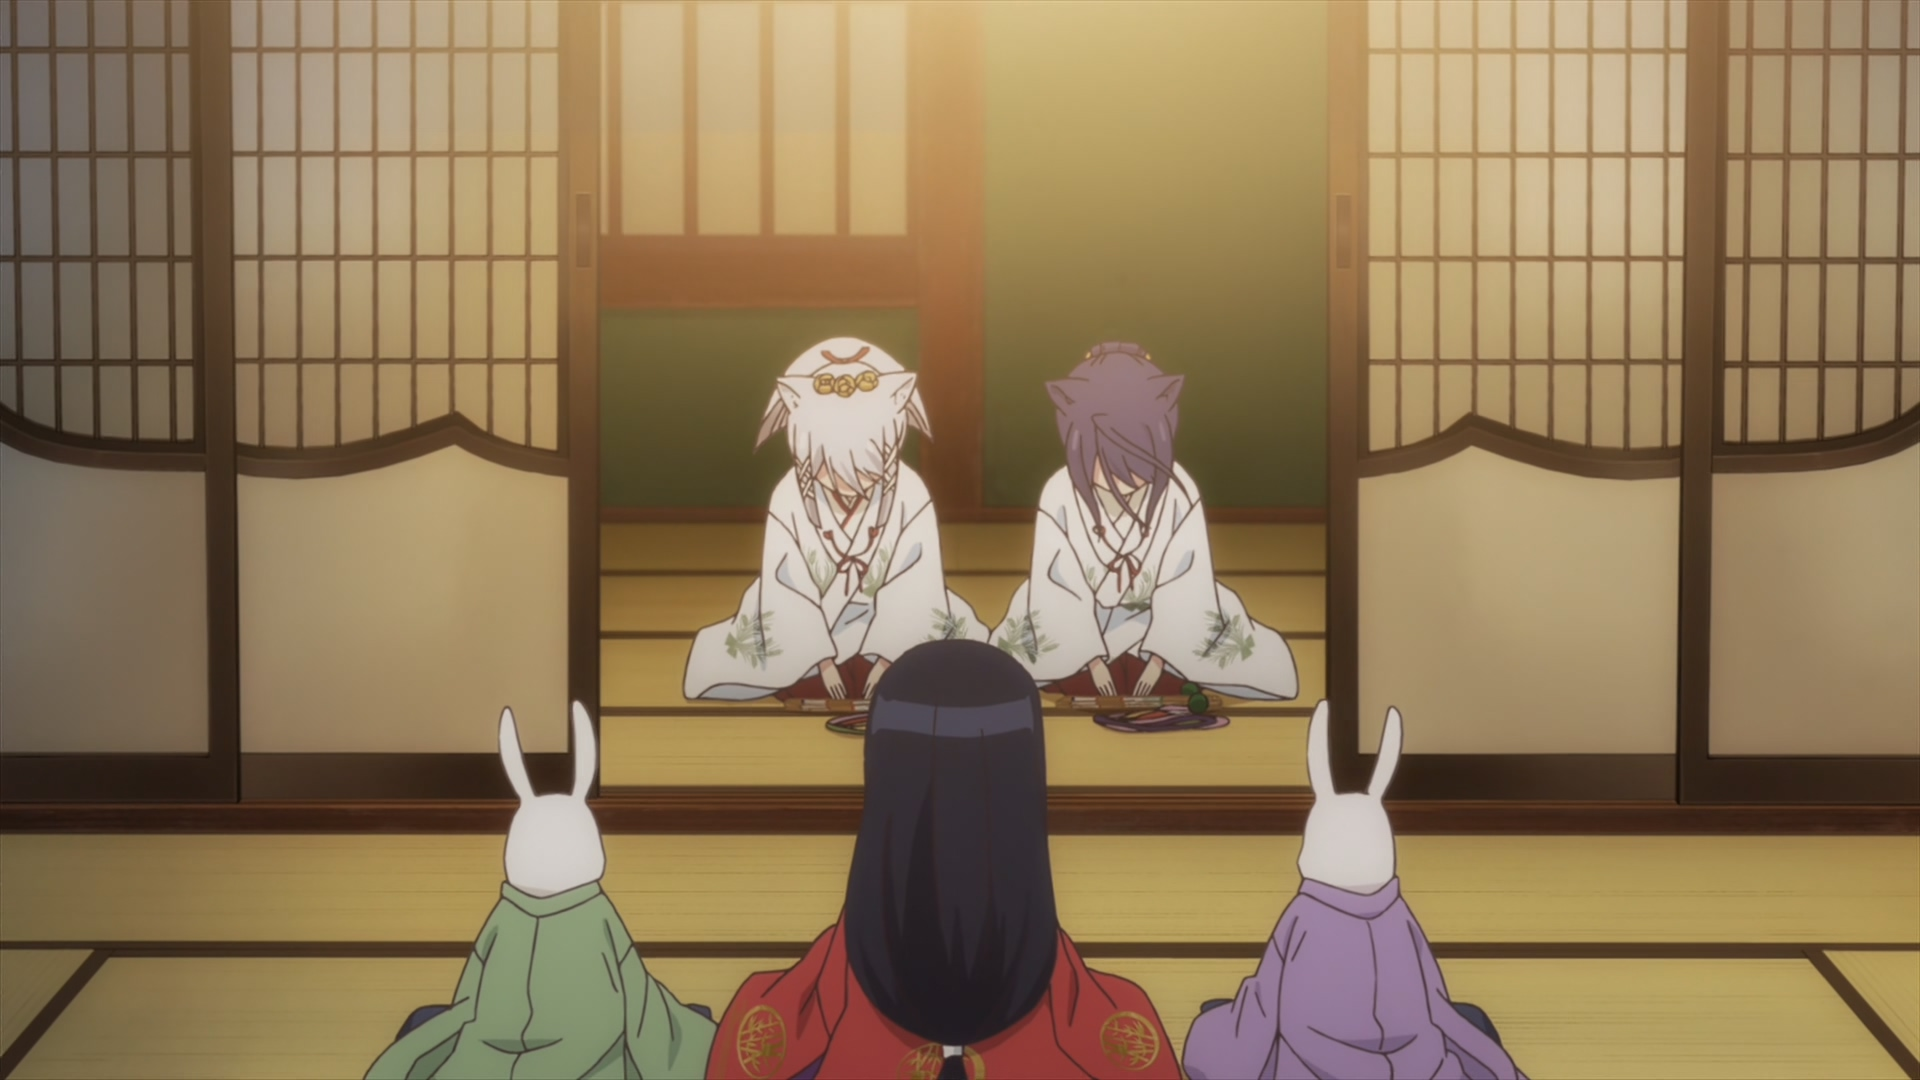其他: (707, 637, 1180, 1080), (368, 702, 716, 1080), (1182, 700, 1520, 1080)
柊: (682, 335, 992, 713)
皋: (989, 343, 1298, 705)
